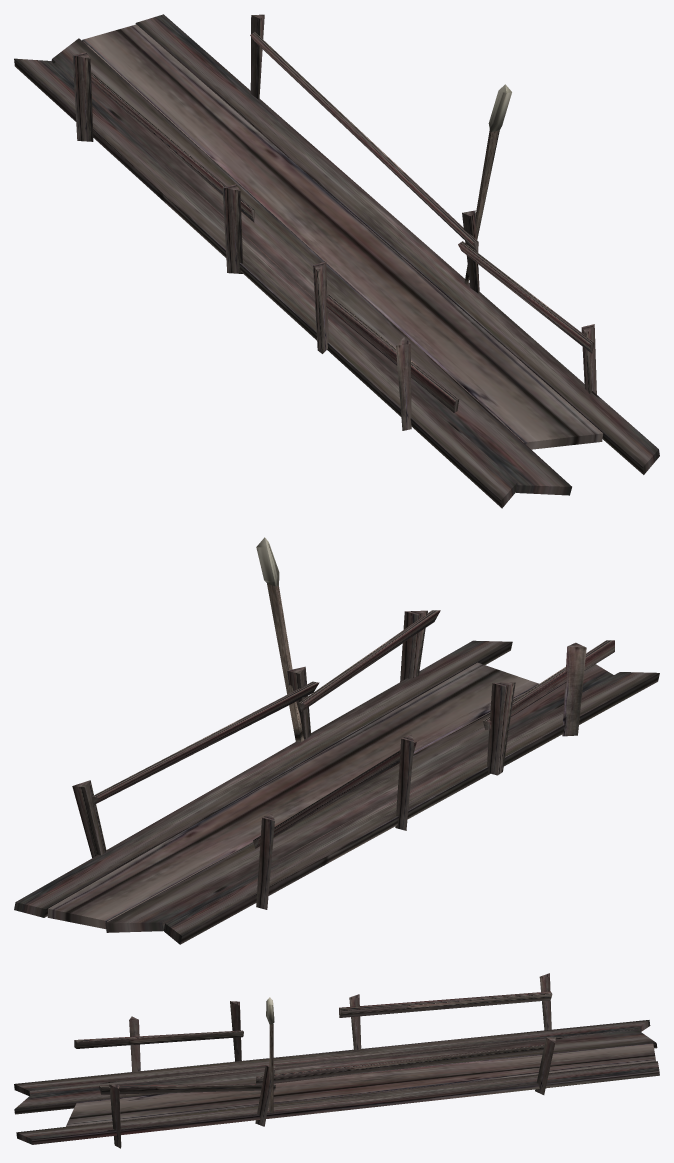
File: pir_m_prp_swm_catwalk_shortrails.fbx
3 renders of one model, top to bottom at view 1: azimuth 30°, elevation 25°; view 2: azimuth 150°, elevation 25°; view 3: azimuth 270°, elevation 25°, orthographic. The views are drawn at different scales.
Parts seen in each view (by area): view 1: TablePlank30, TablePlank32, TablePlank31, TablePlank148, balconypost130, balconypost129, balconypost128, balconypost131, Torch38, balconypost115, balconypost114, balconypost216 (+3 smaller); view 2: TablePlank30, TablePlank148, TablePlank31, TablePlank32, balconypost130, Torch38, balconypost113, balconypost131, balconypost128, balconypost216, balconypost129, balconypost120 (+4 smaller); view 3: TablePlank30, TablePlank31, TablePlank148, TablePlank32, balconypost130, balconypost128, balconypost129, balconypost131, balconypost120, Torch38, balconypost121, balconypost217 (+4 smaller).
Boxes of the visible parts, x1,y1,x2,y2 form: TablePlank30: [82, 24, 603, 449]; TablePlank32: [51, 38, 571, 495]; TablePlank31: [135, 14, 659, 474]; TablePlank148: [14, 58, 518, 508]; balconypost130: [250, 32, 478, 252]; balconypost129: [326, 294, 459, 412]; balconypost128: [91, 72, 254, 222]; balconypost131: [458, 241, 593, 353]; Torch38: [464, 84, 511, 284]; balconypost115: [72, 52, 93, 141]; balconypost114: [222, 184, 242, 273]; balconypost216: [396, 337, 411, 430]; TablePlank30: [47, 662, 539, 929]; TablePlank148: [164, 672, 659, 944]; TablePlank31: [14, 640, 512, 917]; TablePlank32: [105, 664, 613, 932]; balconypost130: [92, 681, 319, 804]; Torch38: [256, 537, 303, 742]; balconypost113: [487, 682, 515, 775]; balconypost131: [298, 610, 440, 711]; balconypost128: [253, 742, 416, 848]; balconypost216: [562, 642, 586, 736]; balconypost129: [483, 640, 614, 730]; balconypost120: [72, 780, 106, 857]; TablePlank30: [66, 1043, 655, 1126]; TablePlank31: [16, 1061, 659, 1144]; TablePlank148: [14, 1020, 650, 1095]; TablePlank32: [14, 1029, 657, 1114]; balconypost130: [256, 1044, 544, 1085]; balconypost128: [339, 991, 552, 1017]; balconypost129: [74, 1030, 243, 1048]; balconypost131: [99, 1083, 275, 1094]; balconypost120: [535, 1037, 555, 1094]; Torch38: [266, 997, 274, 1113]; balconypost121: [255, 1065, 275, 1126]; balconypost217: [109, 1084, 121, 1148].
Bounding box in the file's own units: 1454 × 1466 × 5406.
2 materials, 2 textured.
